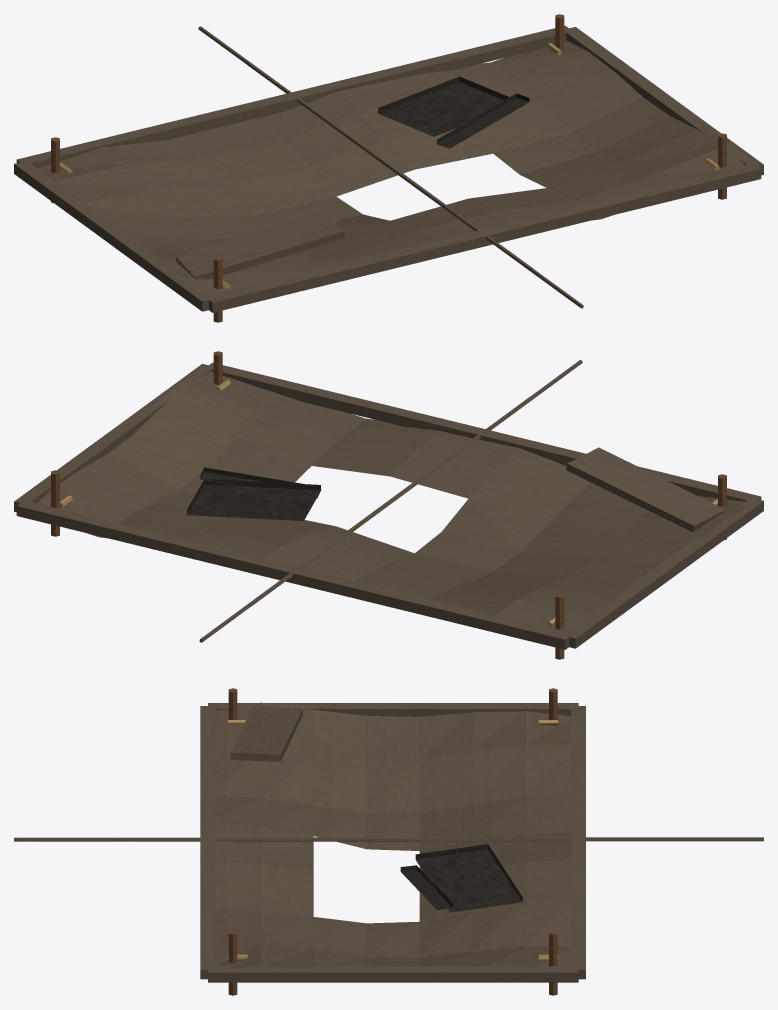
Rendered from en-016_camp_mat_groundsheet__worn.obj.
The picture shows the model from 3 angles, top to bottom: view 1: azimuth 30°, elevation 25°; view 2: azimuth 150°, elevation 25°; view 3: azimuth 270°, elevation 25°; orthographic projection.
Visible parts, largest first — view 1: en-016_camp_mat_groundsheet__worn; view 2: en-016_camp_mat_groundsheet__worn; view 3: en-016_camp_mat_groundsheet__worn.
Part boxes in pixels (x1,y1,x2,y2): en-016_camp_mat_groundsheet__worn: (14,14,763,322); en-016_camp_mat_groundsheet__worn: (14,351,763,659); en-016_camp_mat_groundsheet__worn: (14,688,763,995).
Bounding box in the file's own units: 1.51 × 0.16 × 1.78.
Materials: 4 (4 with a texture image).
